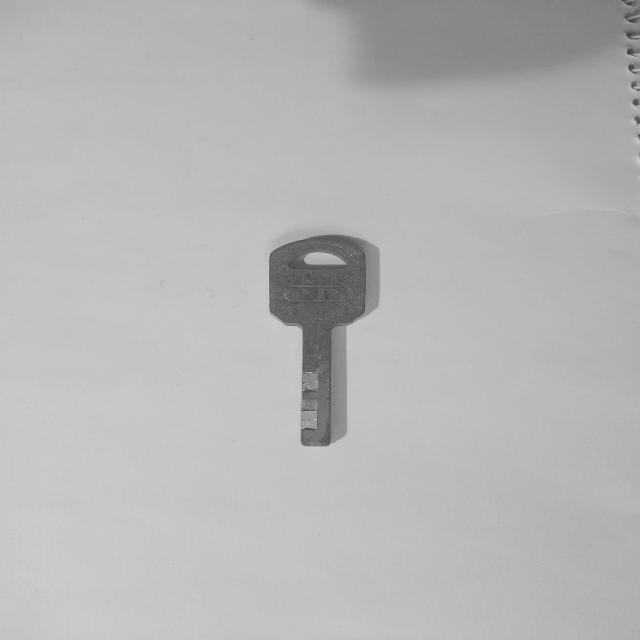KEY: (270, 236, 366, 447)
